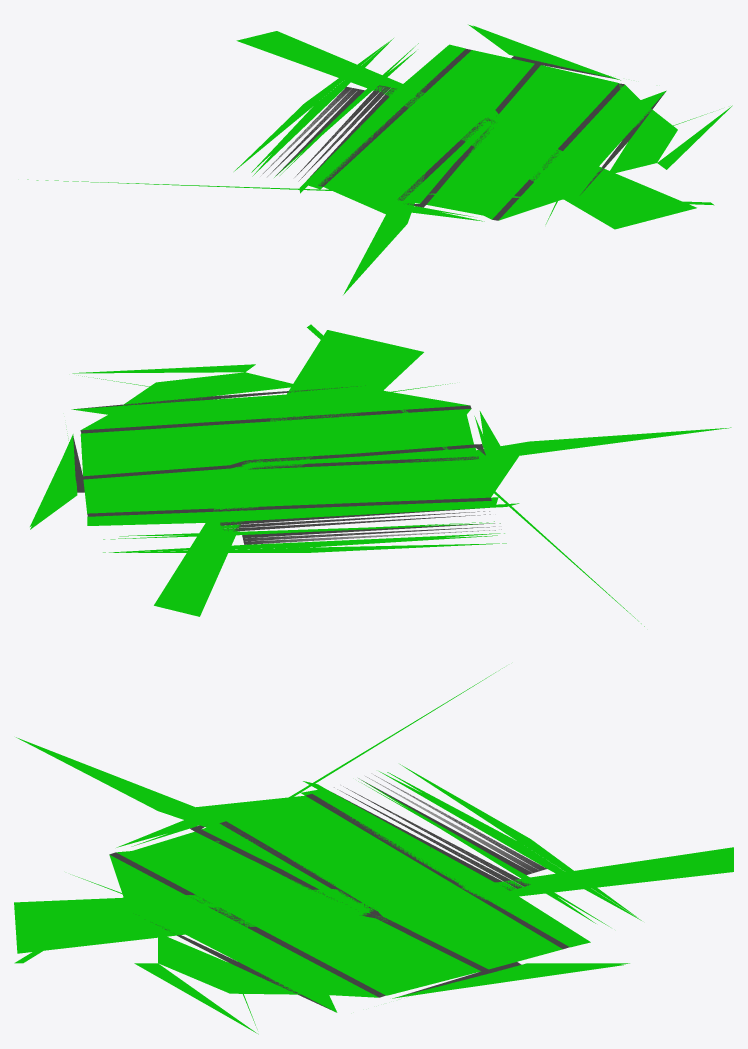
3 renders of one model, top to bottom at view 1: azimuth 30°, elevation 25°; view 2: azimuth 150°, elevation 25°; view 3: azimuth 270°, elevation 25°, orthographic. The views are drawn at different scales.
Bounding box in the file's own units: 371 × 2.3 × 300.
